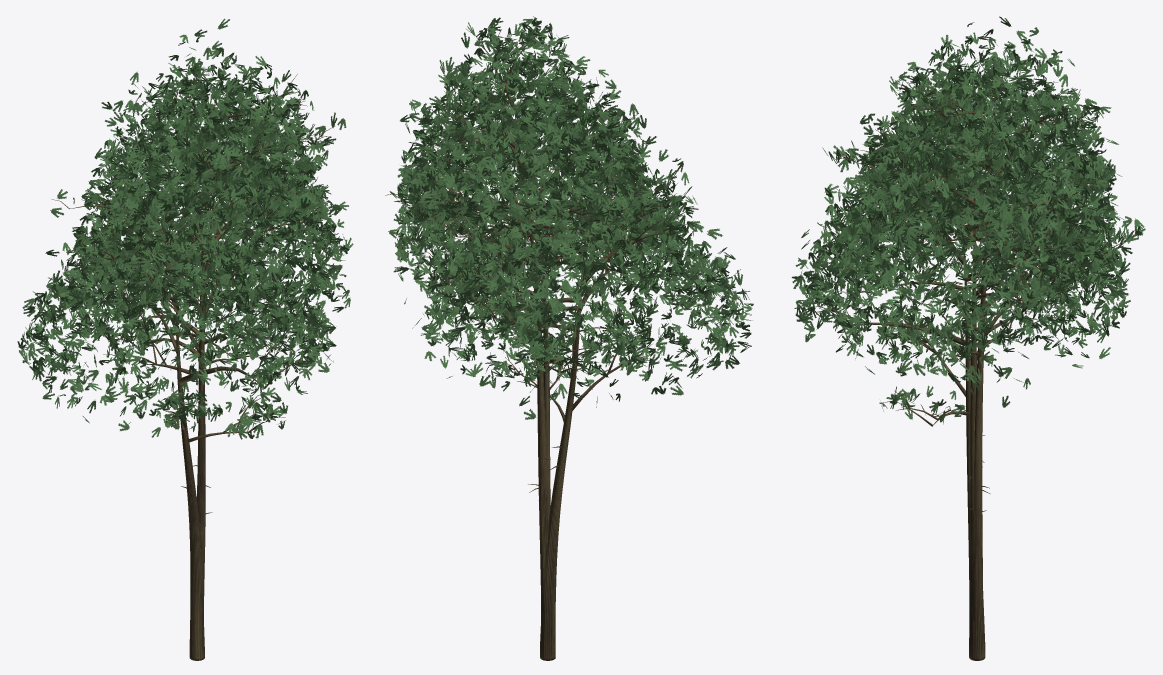
The model's file is trees-v014-pine.glb.
The picture shows the model from 3 angles, left to right: view 1: azimuth 30°, elevation 25°; view 2: azimuth 150°, elevation 25°; view 3: azimuth 270°, elevation 25°; orthographic projection. The views are drawn at different scales.
Visible parts, largest first — view 1: tree_pine_2_foliage_leaf, tree_pine_1_foliage_leaf, tree_pine_0_foliage_leaf, tree_pine_1_bark, tree_pine_0_bark, tree_pine_2_bark; view 2: tree_pine_2_foliage_leaf, tree_pine_1_foliage_leaf, tree_pine_0_foliage_leaf, tree_pine_1_bark, tree_pine_2_bark, tree_pine_0_bark; view 3: tree_pine_2_foliage_leaf, tree_pine_0_foliage_leaf, tree_pine_1_foliage_leaf, tree_pine_2_bark, tree_pine_0_bark, tree_pine_1_bark.
Part boxes in pixels (x1,y1,x2,y2): tree_pine_2_foliage_leaf: (62, 18, 346, 345); tree_pine_1_foliage_leaf: (17, 174, 336, 439); tree_pine_0_foliage_leaf: (50, 100, 353, 369); tree_pine_1_bark: (101, 187, 316, 660); tree_pine_0_bark: (51, 161, 322, 614); tree_pine_2_bark: (73, 70, 334, 498); tree_pine_2_foliage_leaf: (395, 16, 702, 343); tree_pine_1_foliage_leaf: (419, 172, 753, 419); tree_pine_0_foliage_leaf: (388, 58, 689, 385); tree_pine_1_bark: (458, 182, 676, 660); tree_pine_2_bark: (406, 29, 694, 606); tree_pine_0_bark: (385, 104, 681, 621); tree_pine_2_foliage_leaf: (859, 16, 1122, 366); tree_pine_0_foliage_leaf: (822, 65, 1123, 345); tree_pine_1_foliage_leaf: (791, 153, 1145, 422); tree_pine_2_bark: (889, 80, 1108, 607); tree_pine_0_bark: (835, 119, 1112, 628); tree_pine_1_bark: (808, 194, 1141, 660).
Bounding box in the file's own units: 13.66 × 26.08 × 13.07.
Materials: 2 (2 with a texture image).
